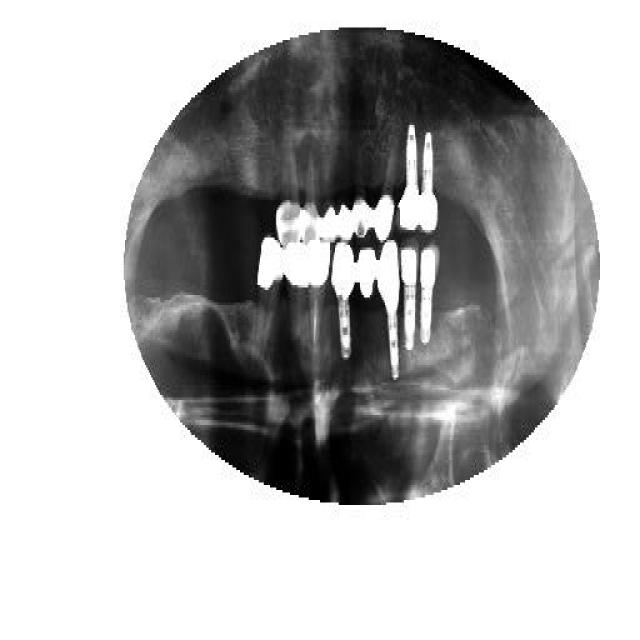Fillings: (258, 235, 286, 327), (278, 150, 302, 242), (309, 240, 330, 342), (285, 245, 307, 337), (375, 152, 396, 240), (354, 152, 375, 240), (358, 245, 378, 330), (318, 160, 338, 238), (302, 160, 320, 242), (338, 155, 352, 240)
Implant: (332, 245, 358, 363), (378, 240, 400, 378), (398, 122, 422, 232), (418, 245, 440, 347), (401, 250, 419, 355), (420, 130, 438, 232)
